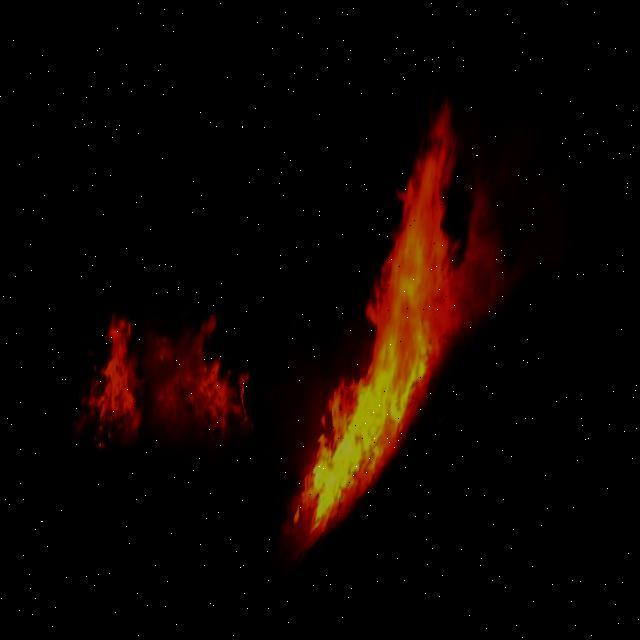Fire: (296, 81, 526, 539), (82, 282, 258, 473)
